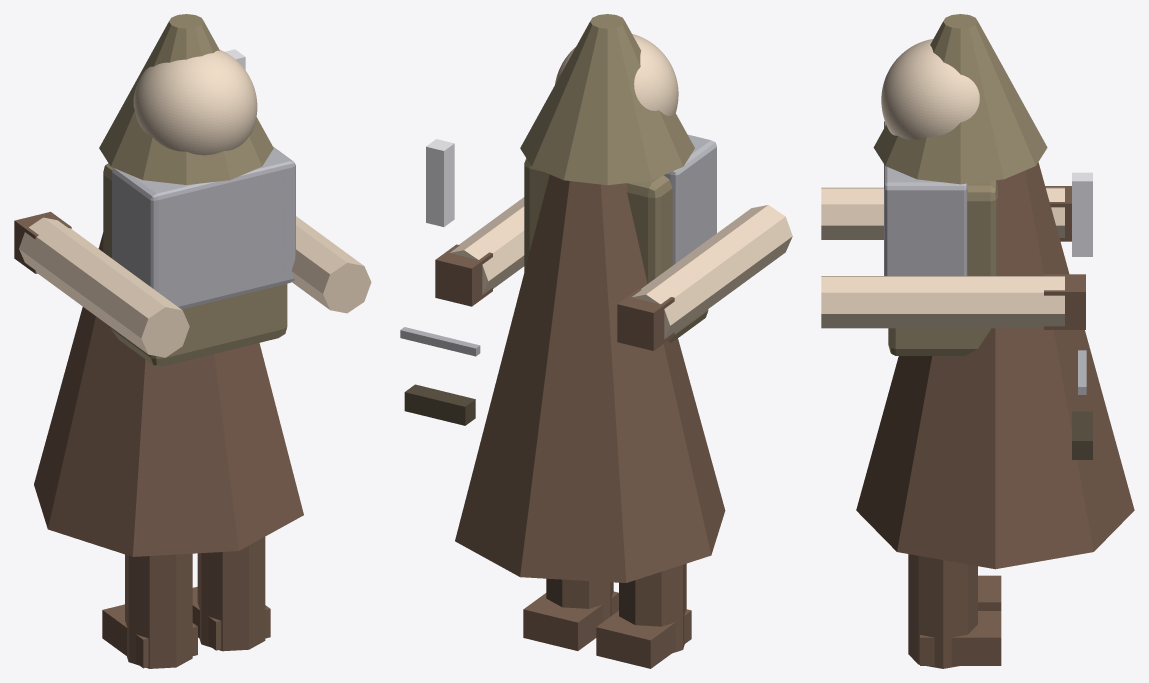
File: adventurer.fbx
3 views of the same model, side by side, from view 1: azimuth 30°, elevation 25°; view 2: azimuth 150°, elevation 25°; view 3: azimuth 270°, elevation 25° (orthographic).
Visible parts, largest first — view 1: AdvCloak, AdvChestArmor, AdvArm_L, AdvHead, AdvHood, AdvLeg_L, AdvTorso, AdvLeg_R, AdvArm_R, AdvBoot_L, AdvBoot_R, AdvGlove_L; view 2: AdvCloak, AdvHood, AdvArm_L, AdvTorso, AdvChestArmor, AdvLeg_L, AdvArm_R, AdvBoot_L, AdvBoot_R, AdvHead, AdvBlade, AdvGlove_L (+4 smaller); view 3: AdvCloak, AdvHood, AdvArm_R, AdvChestArmor, AdvHead, AdvLeg_R, AdvTorso, AdvArm_L, AdvBoot_R, AdvBlade, AdvGlove_R, AdvHilt (+2 smaller).
Part boxes in pixels (left/top/right/bottom): AdvCloak: left=34, top=232, right=303, bottom=556; AdvChestArmor: left=112, top=146, right=295, bottom=309; AdvArm_L: left=19, top=217, right=189, bottom=357; AdvHead: left=133, top=50, right=257, bottom=155; AdvHood: left=99, top=14, right=273, bottom=184; AdvLeg_L: left=125, top=553, right=192, bottom=668; AdvTorso: left=103, top=163, right=287, bottom=366; AdvLeg_R: left=197, top=537, right=265, bottom=651; AdvArm_R: left=291, top=216, right=371, bottom=313; AdvBoot_L: left=102, top=604, right=197, bottom=668; AdvBoot_R: left=192, top=586, right=270, bottom=650; AdvGlove_L: left=14, top=211, right=71, bottom=273; AdvCloak: left=455, top=174, right=725, bottom=582; AdvHood: left=520, top=14, right=694, bottom=185; AdvArm_L: left=632, top=205, right=792, bottom=339; AdvTorso: left=524, top=158, right=708, bottom=342; AdvChestArmor: left=664, top=134, right=716, bottom=265; AdvLeg_L: left=619, top=563, right=686, bottom=653; AdvArm_R: left=450, top=197, right=524, bottom=294; AdvBoot_L: left=596, top=609, right=691, bottom=668; AdvBoot_R: left=523, top=591, right=618, bottom=650; AdvHead: left=555, top=34, right=678, bottom=115; AdvBlade: left=426, top=139, right=454, bottom=226; AdvGlove_L: left=617, top=289, right=674, bottom=350; AdvCloak: left=856, top=162, right=1134, bottom=569; AdvHood: left=873, top=14, right=1047, bottom=184; AdvArm_R: left=821, top=276, right=1064, bottom=328; AdvChestArmor: left=884, top=121, right=967, bottom=275; AdvHead: left=881, top=39, right=979, bottom=140; AdvLeg_R: left=908, top=554, right=977, bottom=668; AdvTorso: left=888, top=180, right=997, bottom=355; AdvArm_L: left=821, top=187, right=1064, bottom=239; AdvBoot_R: left=920, top=611, right=1001, bottom=665; AdvBlade: left=1072, top=172, right=1092, bottom=256; AdvGlove_R: left=1044, top=274, right=1085, bottom=329; AdvHilt: left=1072, top=411, right=1092, bottom=459.
Size of the model in its own units: 0.875 by 0.9 by 1.95.
